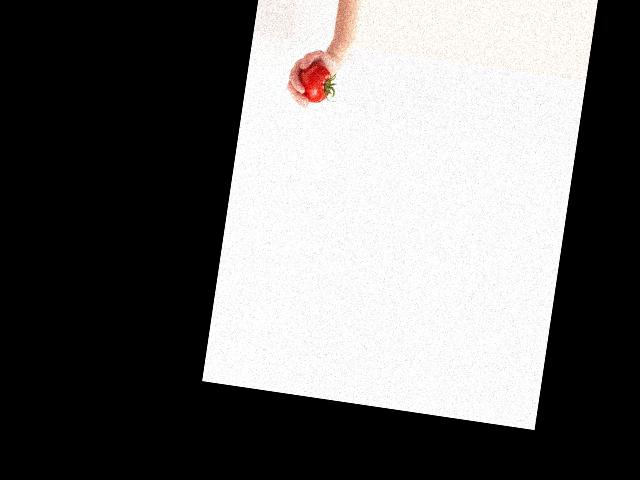tomato: (295, 62, 333, 104)
